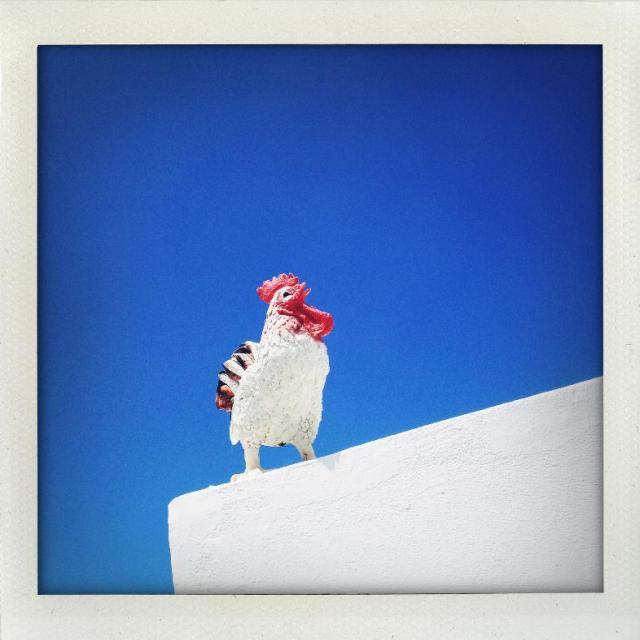Chicken: (211, 272, 331, 474)
